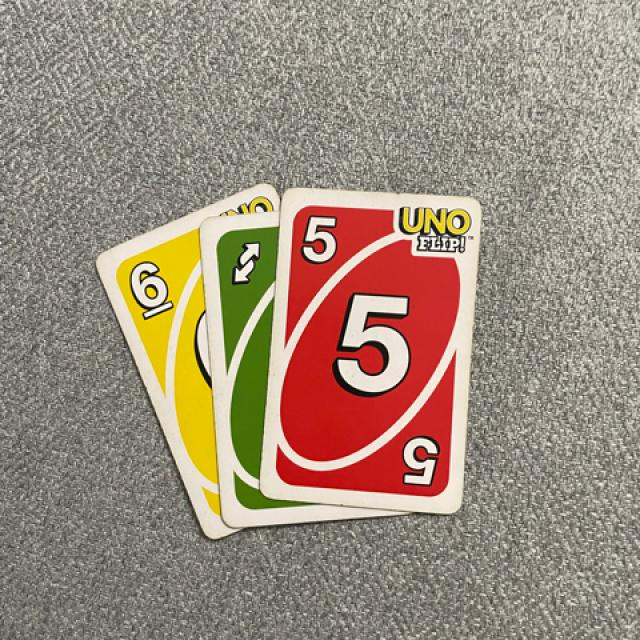lgreenrevers-20: (216, 228, 271, 302)
lred-5: (289, 201, 352, 273)
lyellow-6: (124, 250, 184, 324)
